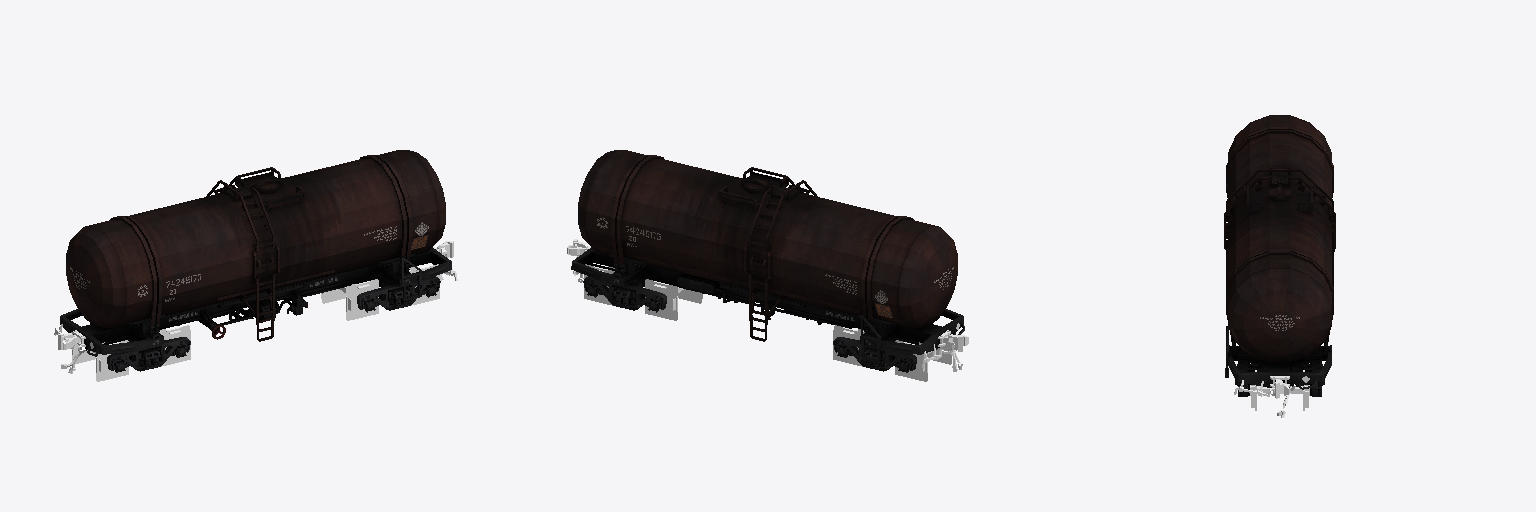
The picture shows the model from 3 angles: view 1: azimuth 30°, elevation 25°; view 2: azimuth 150°, elevation 25°; view 3: azimuth 270°, elevation 25°; orthographic projection.
Visible parts, largest first — view 1: FRAME_mvp_tank, BOGEY_FRONT_mvp_tank, BOGEY_REAR_mvp_tank, BOGEY_REAR_WHEEL_1_mvp_tank, BOGEY_FRONT_WHEEL_1_mvp_tank; view 2: FRAME_mvp_tank, BOGEY_REAR_mvp_tank, BOGEY_FRONT_mvp_tank, BOGEY_REAR_WHEEL_1_mvp_tank, BOGEY_FRONT_WHEEL_1_mvp_tank; view 3: FRAME_mvp_tank, BOGEY_REAR_mvp_tank.
Part boxes in pixels (x1,y1,x2,y2): FRAME_mvp_tank: (56,150,455,356); BOGEY_FRONT_mvp_tank: (105,336,190,372); BOGEY_REAR_mvp_tank: (357,276,440,312); BOGEY_REAR_WHEEL_1_mvp_tank: (321,279,378,320); BOGEY_FRONT_WHEEL_1_mvp_tank: (72,340,128,381); FRAME_mvp_tank: (567,150,968,363); BOGEY_REAR_mvp_tank: (583,275,666,312); BOGEY_FRONT_mvp_tank: (833,336,918,372); BOGEY_REAR_WHEEL_1_mvp_tank: (645,279,702,320); BOGEY_FRONT_WHEEL_1_mvp_tank: (895,340,951,381); FRAME_mvp_tank: (1224,115,1335,398); BOGEY_REAR_mvp_tank: (1235,361,1324,396).
Size of the model in its own units: 13.69 by 5.01 by 3.39.
6 materials, 4 textured.